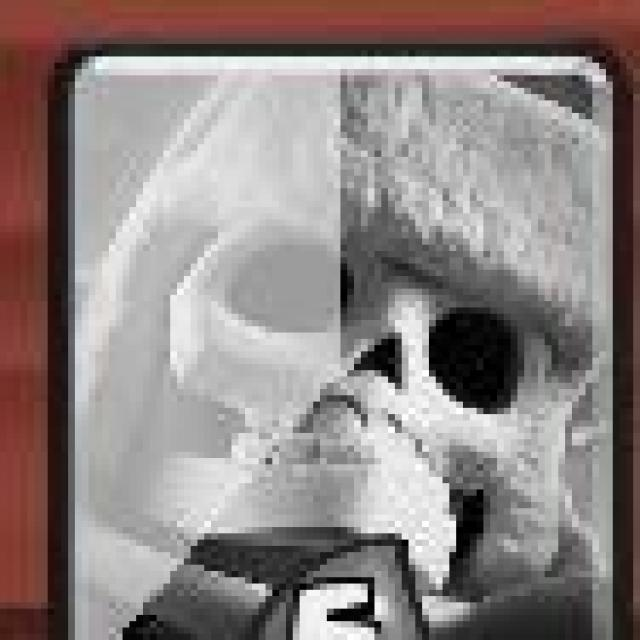Giant_Skeleton: (51, 41, 632, 640)
